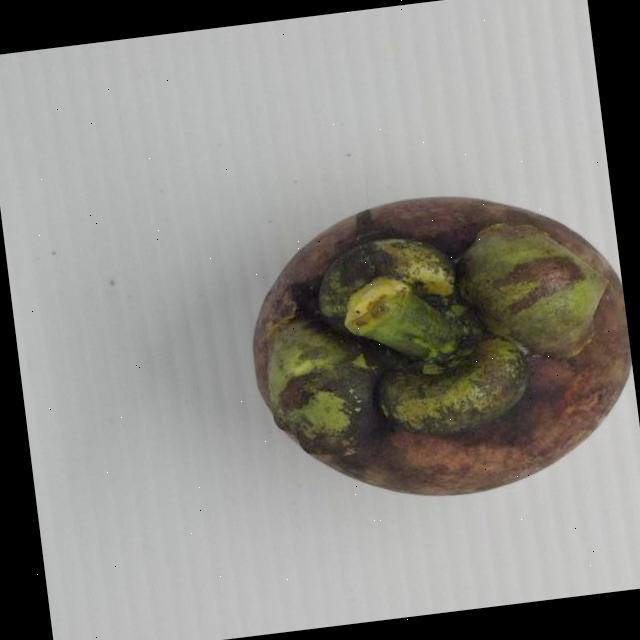mangosteen: (182, 134, 640, 540)
